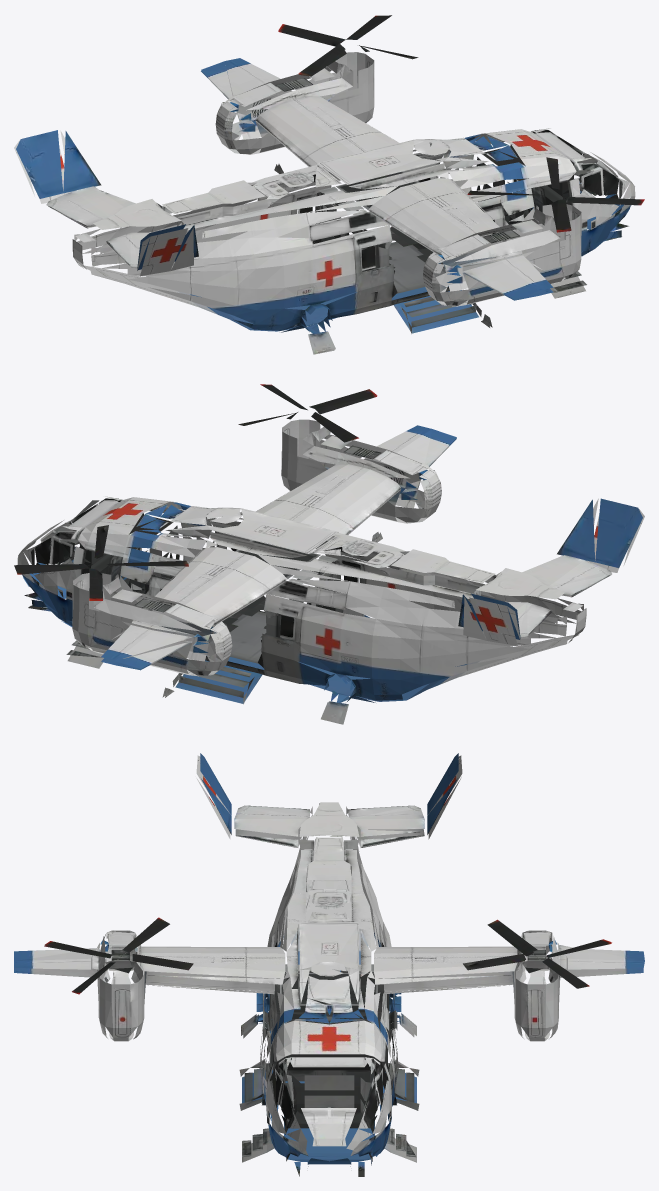
File: lifter_LOD2.glb
3 views of the same model, one above another, from view 1: azimuth 30°, elevation 25°; view 2: azimuth 150°, elevation 25°; view 3: azimuth 270°, elevation 25° (orthographic).
Parts seen in each view (by area): view 1: lifter_LOD2; view 2: lifter_LOD2; view 3: lifter_LOD2.
Boxes of the visible parts, x1,y1,x2,y2 form: lifter_LOD2: [14, 15, 644, 354]; lifter_LOD2: [14, 384, 644, 724]; lifter_LOD2: [14, 753, 644, 1176].
Bounding box in the file's own units: 0.9568 × 0.3072 × 0.947.
1 material, 1 textured.
